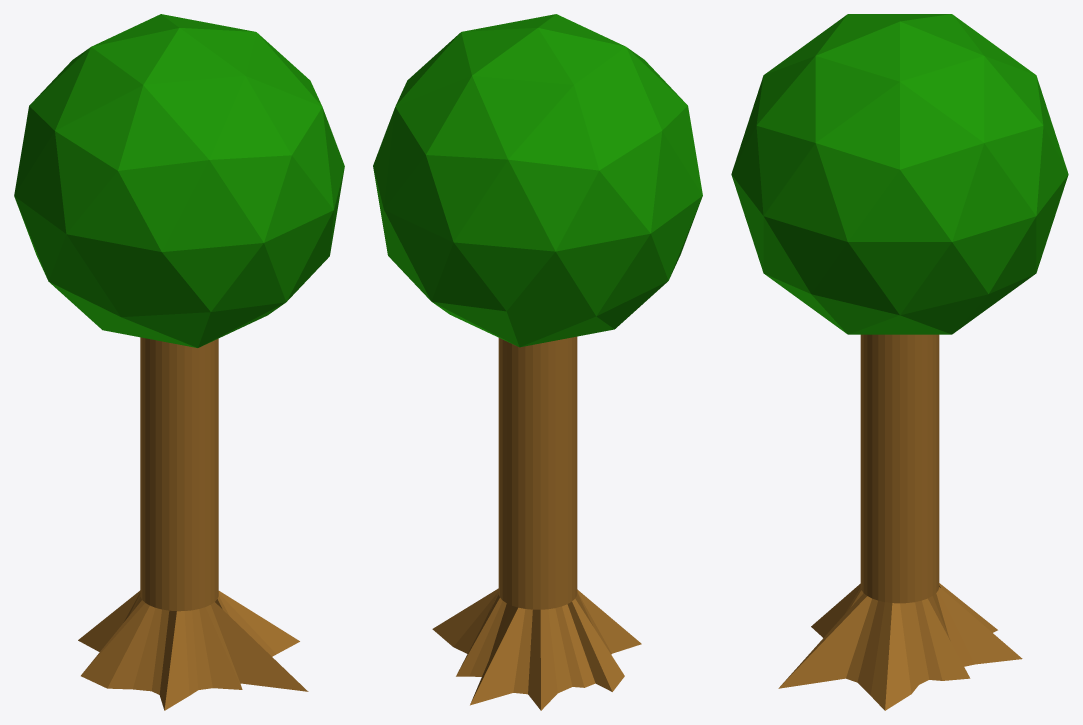
The model's file is Oak1.fbx.
The picture shows the model from 3 angles, left to right: view 1: azimuth 30°, elevation 25°; view 2: azimuth 150°, elevation 25°; view 3: azimuth 270°, elevation 25°; orthographic projection.
Visible parts, largest first — view 1: Leaves, Trunk; view 2: Leaves, Trunk; view 3: Leaves, Trunk.
Boxes of the visible parts, box(x1,y1,x2,y2) form: Leaves: box(14, 14, 344, 347); Trunk: box(78, 337, 308, 710); Leaves: box(373, 14, 702, 347); Trunk: box(432, 336, 641, 710); Leaves: box(731, 14, 1068, 334); Trunk: box(778, 334, 1022, 710).
Size of the model in its own units: 65.59 by 143 by 68.96.
